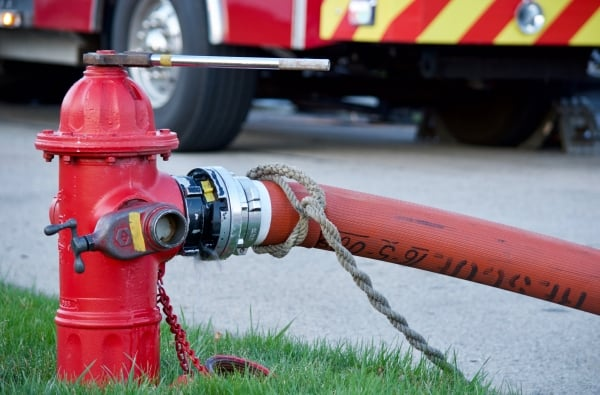FireHydrant: (24, 45, 233, 385)
